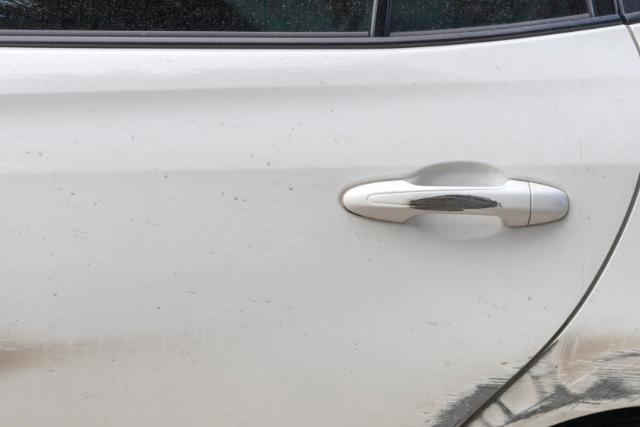Door: (403, 343, 547, 427)
Fender: (452, 314, 640, 427)
